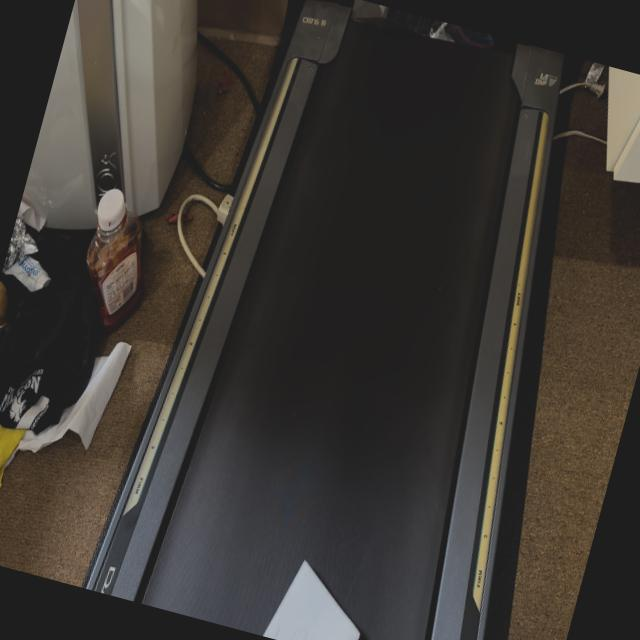Recycle: (261, 553, 375, 640)
